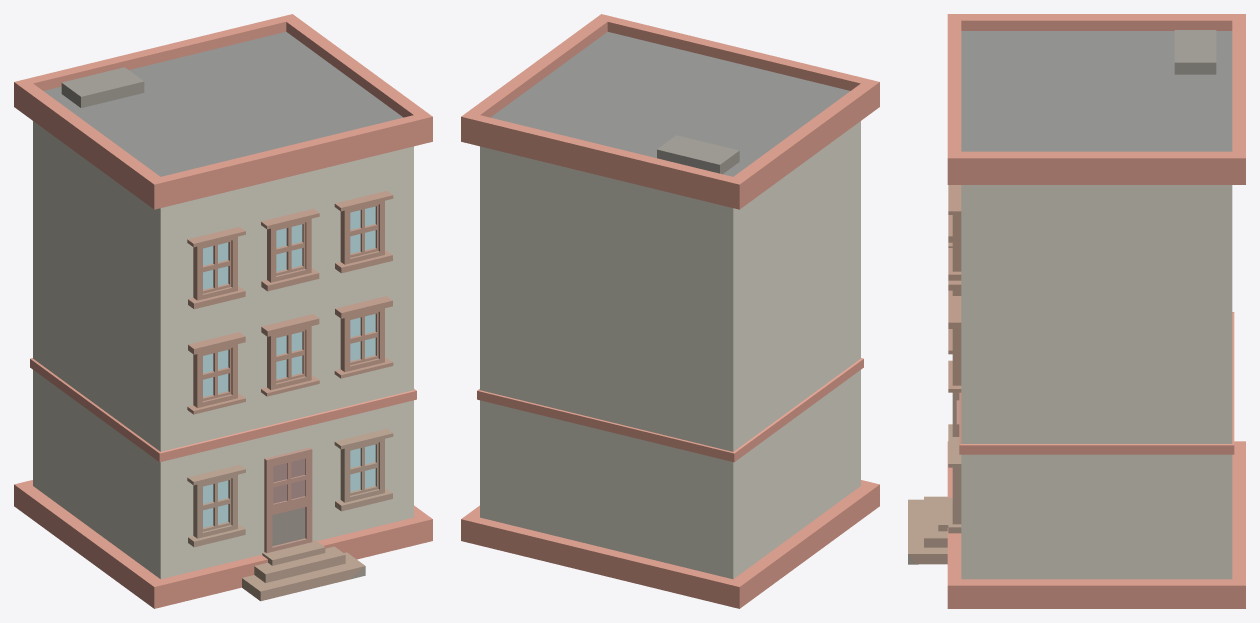
File: motel-flat.glb
The picture shows the model from 3 angles, left to right: view 1: azimuth 30°, elevation 25°; view 2: azimuth 150°, elevation 25°; view 3: azimuth 270°, elevation 25°; orthographic projection. The views are drawn at different scales.
Visible parts, largest first — view 1: Flat1; view 2: Flat1; view 3: Flat1.
Boxes of the visible parts, x1,y1,x2,y2 form: Flat1: (14,14,432,608); Flat1: (461,14,879,608); Flat1: (908,14,1245,608).
Size of the model in its own units: 1 by 1.46 by 0.9886.
Materials: 1 (1 with a texture image).
